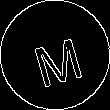M_N: (26, 25, 84, 85)
